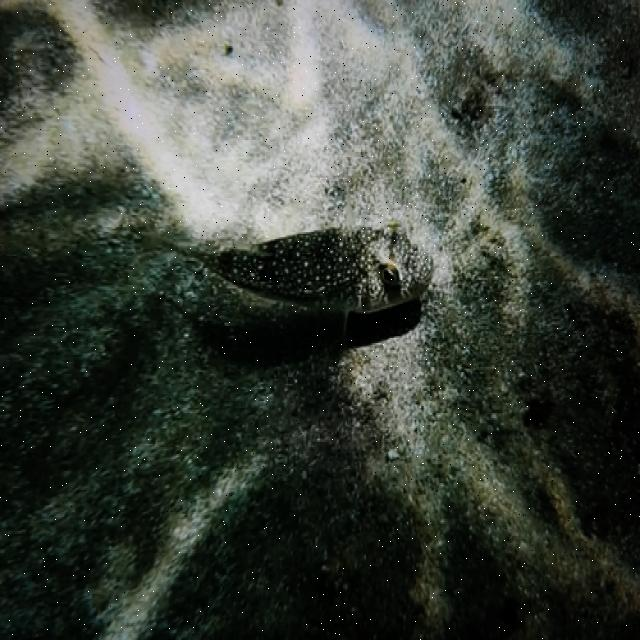Balik: (217, 226, 432, 314)
